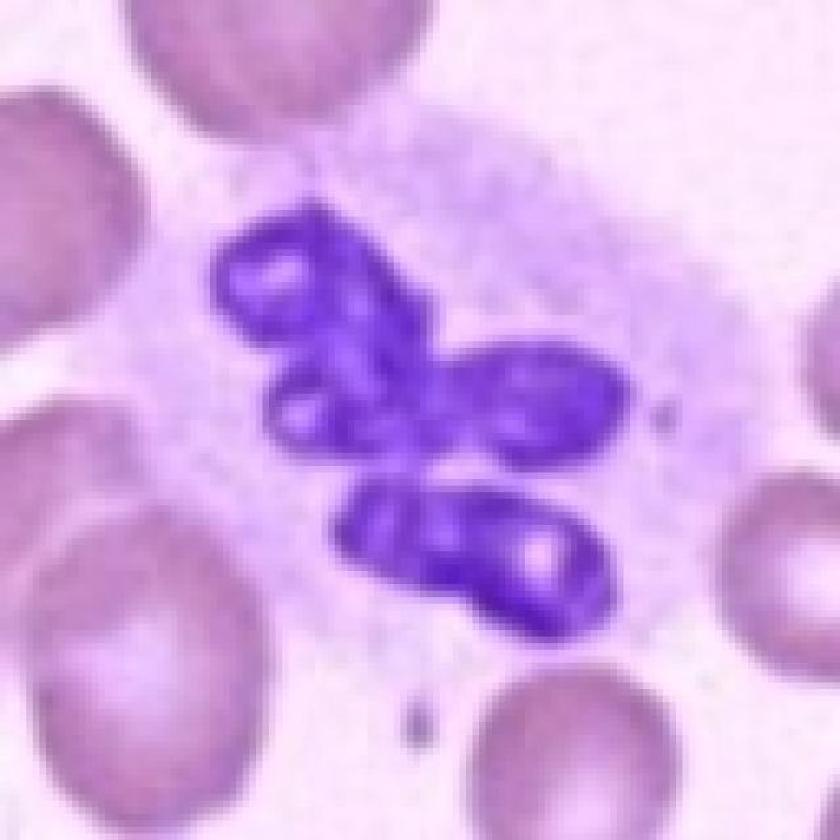neutrophil: (79, 101, 784, 687)
